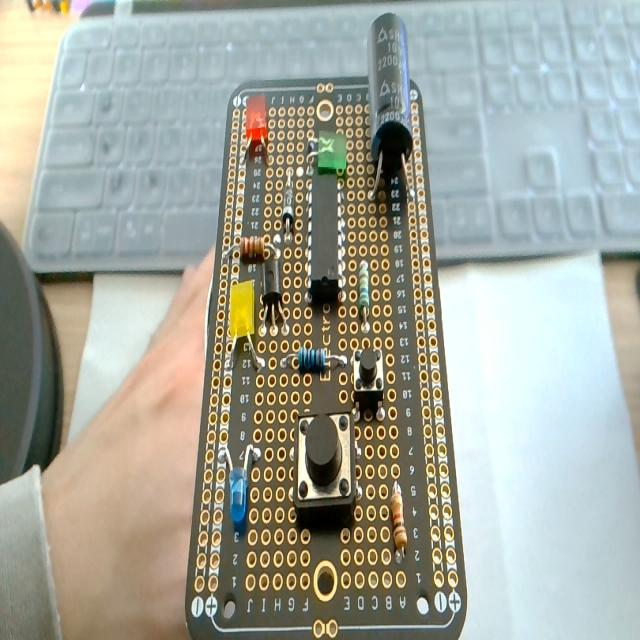Electrolytic capacitor: (364, 15, 415, 200)
IC: (308, 166, 342, 301)
diode: (282, 168, 294, 238)
led: (224, 274, 265, 372), (218, 440, 259, 526), (306, 134, 348, 177), (244, 93, 268, 157)
resistor: (391, 481, 407, 553), (298, 346, 325, 373), (240, 235, 268, 261), (358, 260, 369, 317)
switch: (294, 410, 356, 513), (352, 344, 384, 413)
transistor: (261, 254, 286, 333)
